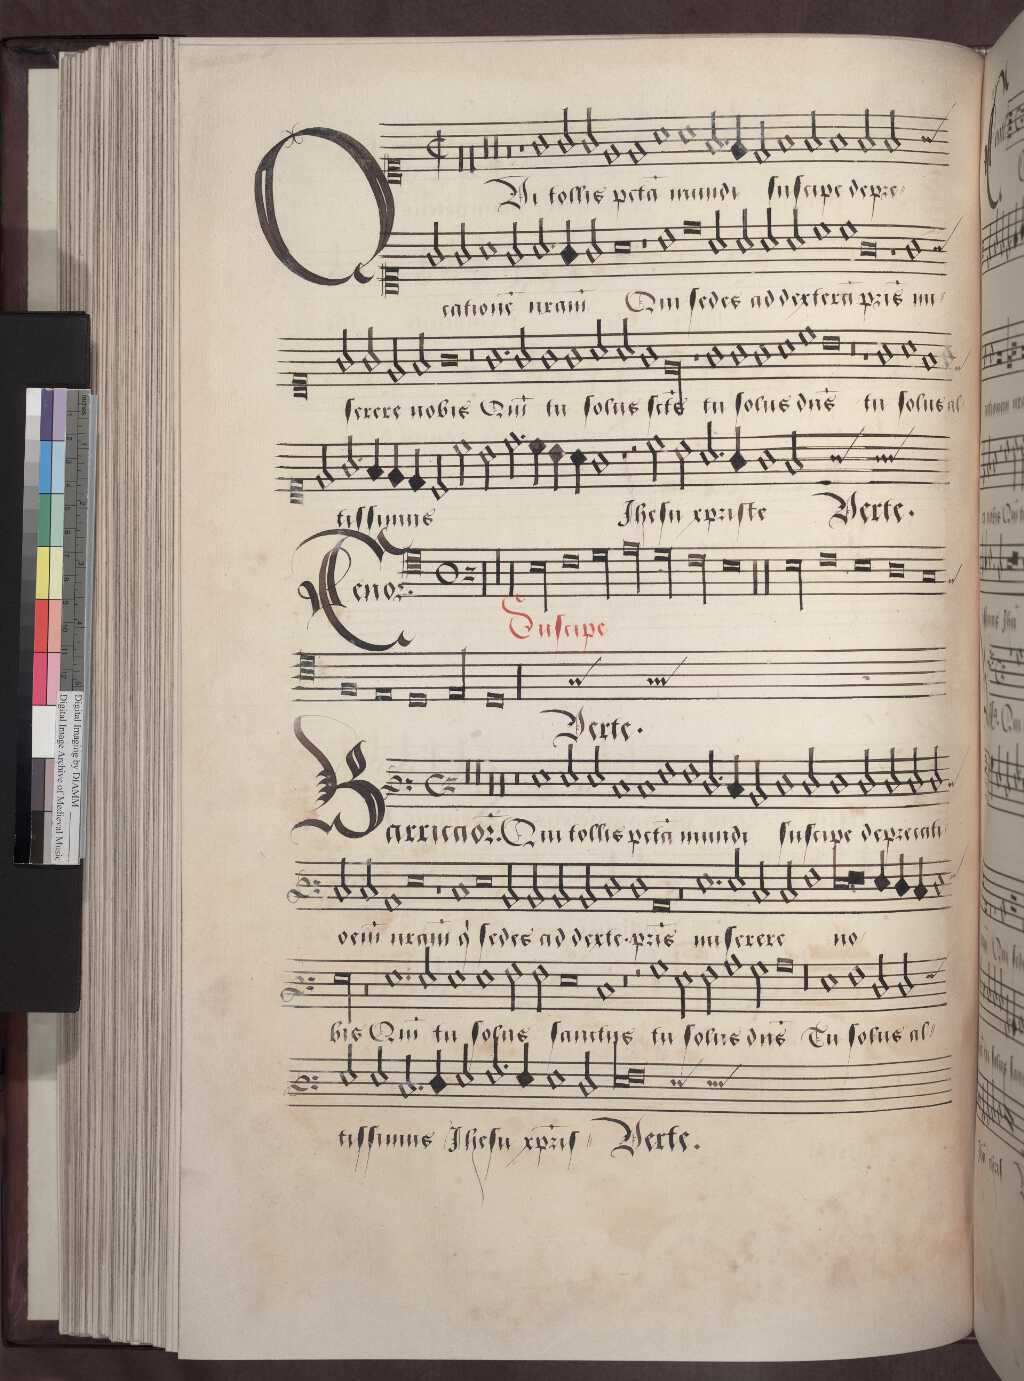2: (440, 768, 467, 800)
Imin: (418, 763, 447, 807)
breve rest: (512, 744, 524, 816)
custos_8: (945, 764, 962, 796)
f clef_7: (375, 758, 418, 809)
longa rest: (481, 745, 497, 824), (494, 748, 510, 821), (470, 746, 484, 820), (460, 750, 473, 815)
minim_6: (559, 734, 582, 796), (584, 738, 607, 796)
minim_7: (798, 738, 822, 803), (854, 740, 878, 803), (881, 740, 904, 801), (905, 737, 926, 800), (700, 738, 720, 802), (927, 738, 945, 796)
minim_9: (746, 749, 769, 815)
point: (710, 766, 727, 788)
semibreve_5: (655, 750, 680, 793), (678, 751, 702, 792)
semibreve_6: (528, 758, 555, 799)
semibreve_7: (825, 761, 852, 803), (771, 761, 797, 805)
semibreve_8: (634, 769, 660, 808), (608, 770, 632, 808)
semiminim_8: (726, 746, 746, 807)
